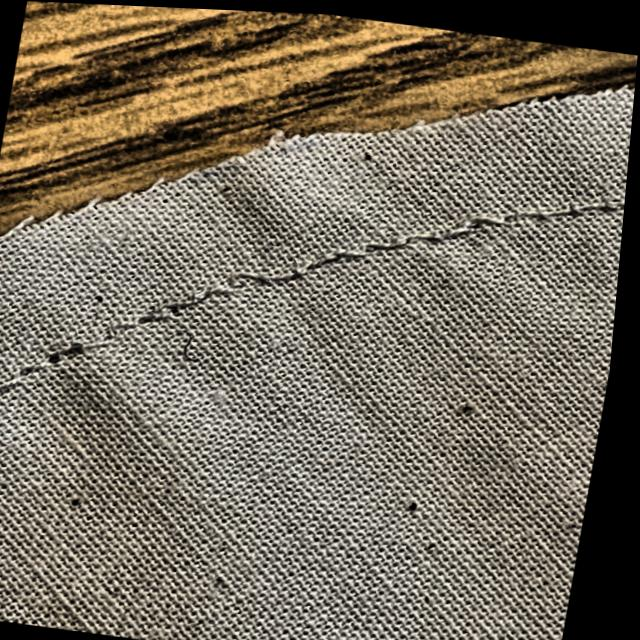Stitch: (32, 237, 280, 414)
